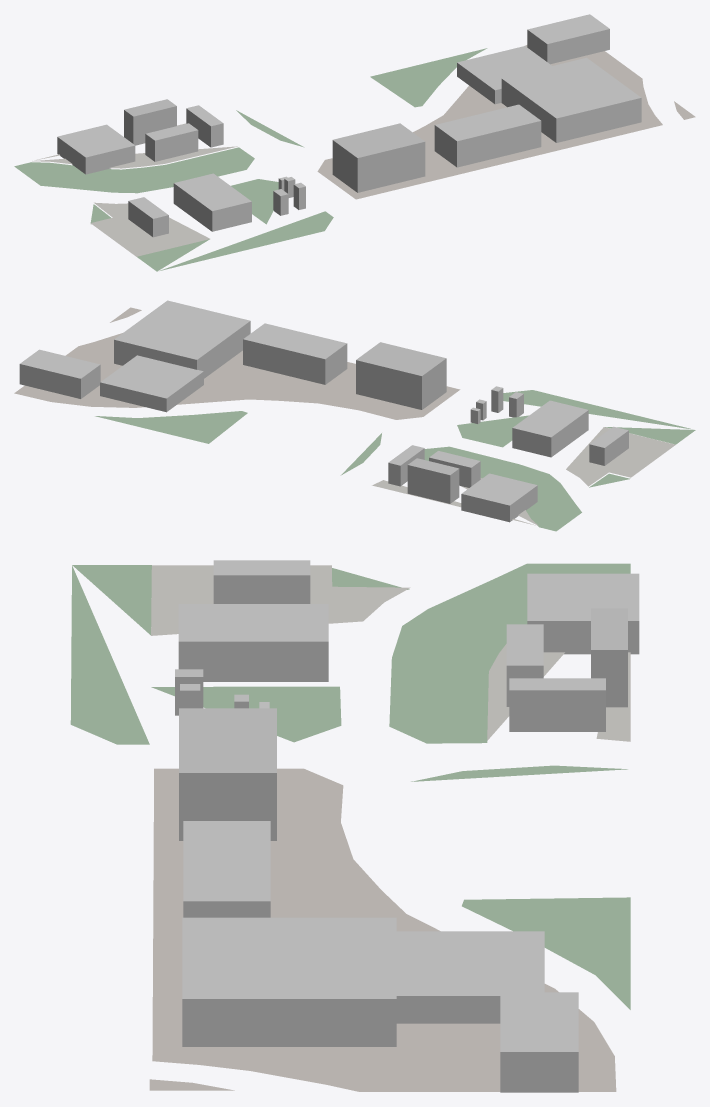
Rendered from 127_72_mid.glb.
3 renders of one model, top to bottom at view 1: azimuth 30°, elevation 25°; view 2: azimuth 150°, elevation 25°; view 3: azimuth 270°, elevation 25°, orthographic. The views are drawn at different scales.
Bounding box in the file's own units: 503 × 33.55 × 225.
